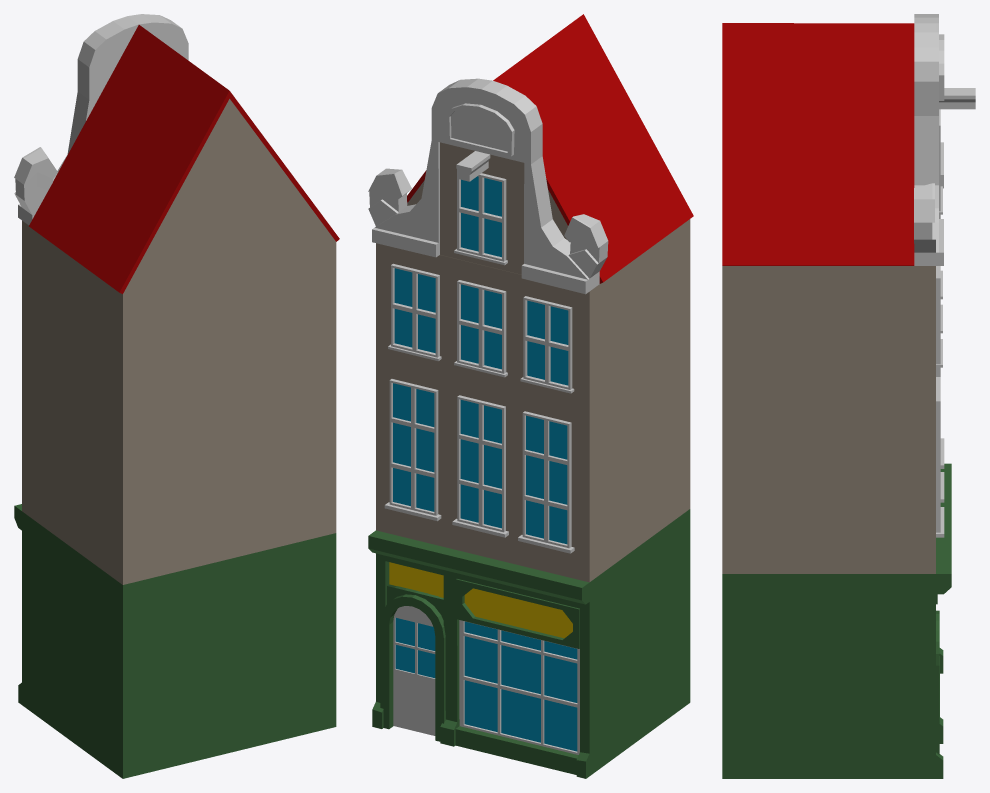
The model's file is House1.fbx.
The picture shows the model from 3 angles, left to right: view 1: azimuth 30°, elevation 25°; view 2: azimuth 150°, elevation 25°; view 3: azimuth 270°, elevation 25°; orthographic projection. The views are drawn at different scales.
Parts seen in each view (by area): view 1: House3; view 2: House3; view 3: House3.
Part boxes in pixels (left/top/right/bottom): House3: left=14, top=14, right=339, bottom=778; House3: left=368, top=14, right=693, bottom=778; House3: left=722, top=14, right=975, bottom=778.
Bounding box in the file's own units: 6.07 × 16.68 × 5.46.
